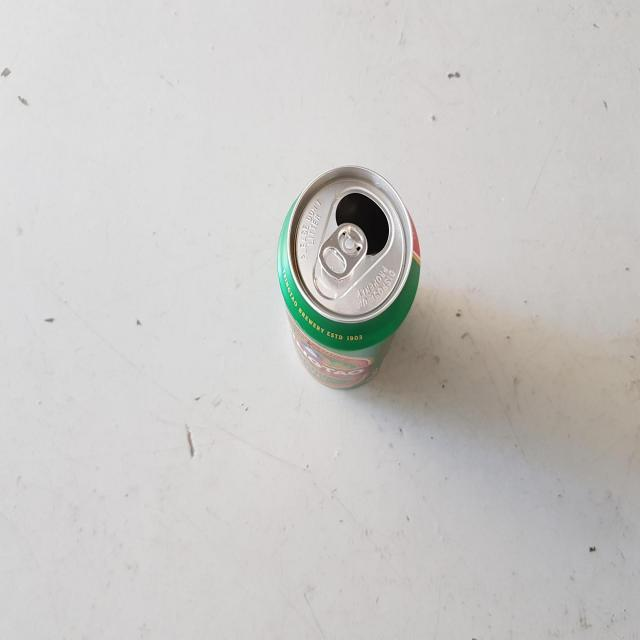can: (277, 165, 421, 388)
